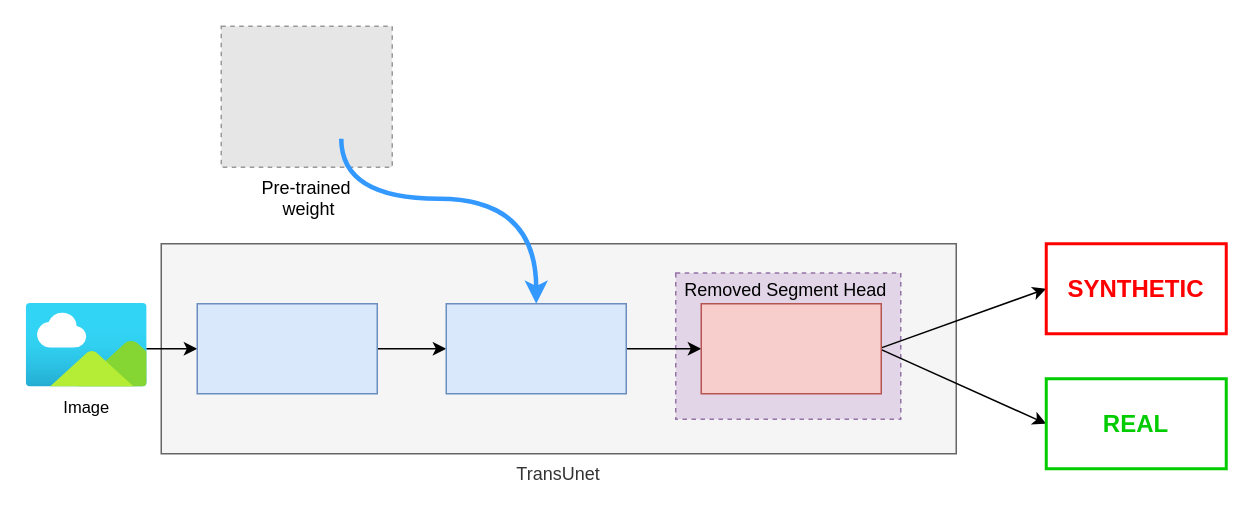
The diagram is 1253 pixels wide and 512 high, and some of its shapes have lost their labels. Grey dashed boxes stand in for pictures. The centre of each missing label's shape, as x and y in pixels:
Binary Classifier: the point at 790,348
CNN Encoder: the point at 286,348
Transformer: the point at 535,348
